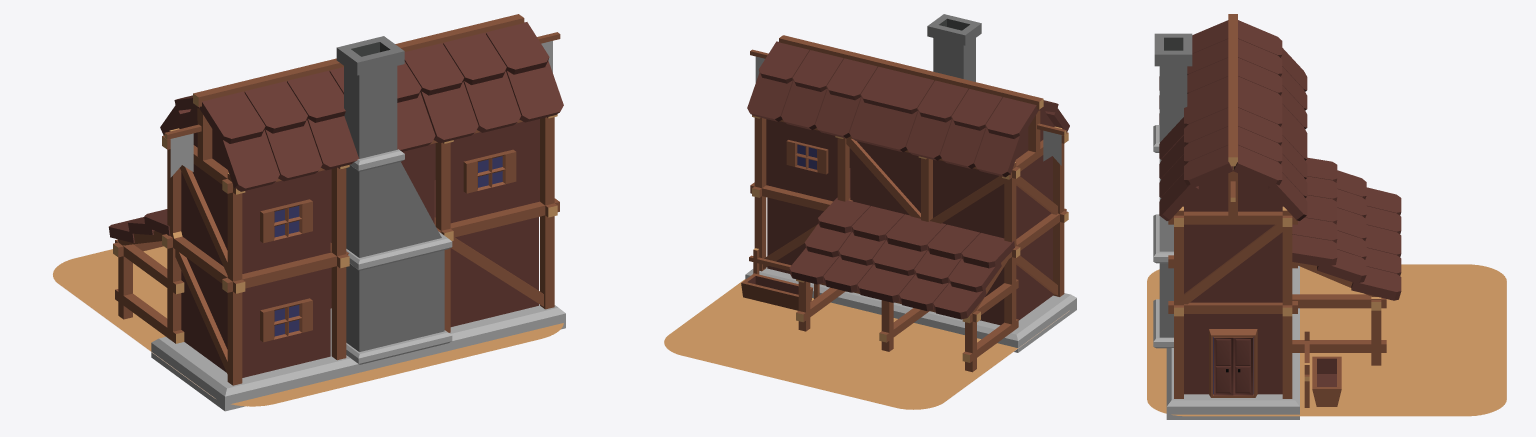
The model's file is Stable.fbx.
The picture shows the model from 3 angles, left to right: view 1: azimuth 30°, elevation 25°; view 2: azimuth 150°, elevation 25°; view 3: azimuth 270°, elevation 25°; orthographic projection. The views are drawn at different scales.
Visible parts, largest first — view 1: polySurface536, Foundation2, Ground, polySurface534, polySurface528, polySurface526, polySurface566, polySurface564, polySurface471, polySurface525, polySurface547, polySurface461 (+37 smaller); view 2: Ground, Foundation2, polySurface565, polySurface538, polySurface563, polySurface503 (×2), polySurface493 (×2), polySurface536, polySurface502 (×2), polySurface492 (×2), polySurface508 (×2), polySurface509 (×2) (+44 smaller); view 3: Ground, polySurface562, Foundation2, polySurface536, polySurface531, polySurface545, polySurface486, polySurface485, polySurface493 (×2), polySurface461, polySurface503 (×2), polySurface508 (×2) (+46 smaller).
Part boxes in pixels (bbox=[...]): polySurface536: bbox=[336, 36, 441, 257]; Foundation2: bbox=[151, 304, 565, 411]; Ground: bbox=[53, 246, 563, 406]; polySurface534: bbox=[346, 250, 444, 351]; polySurface528: bbox=[450, 218, 536, 326]; polySurface526: bbox=[242, 268, 330, 377]; polySurface566: bbox=[242, 169, 330, 273]; polySurface564: bbox=[450, 120, 538, 223]; polySurface471: bbox=[222, 198, 559, 292]; polySurface525: bbox=[181, 258, 245, 377]; polySurface547: bbox=[181, 164, 245, 273]; polySurface461: bbox=[193, 14, 524, 106]; Ground: bbox=[664, 279, 1069, 409]; Foundation2: bbox=[745, 267, 1076, 352]; polySurface565: bbox=[933, 160, 1001, 237]; polySurface538: bbox=[850, 141, 920, 215]; polySurface563: bbox=[768, 120, 837, 201]; polySurface503 (×2): bbox=[961, 97, 1038, 268]; polySurface493 (×2): bbox=[886, 80, 968, 251]; polySurface536: bbox=[927, 14, 981, 81]; polySurface502 (×2): bbox=[948, 128, 1023, 292]; polySurface492 (×2): bbox=[873, 111, 952, 275]; polySurface508 (×2): bbox=[927, 89, 1002, 259]; polySurface509 (×2): bbox=[914, 119, 986, 284]; Ground: bbox=[1147, 264, 1506, 416]; polySurface562: bbox=[1184, 224, 1282, 302]; Foundation2: bbox=[1166, 266, 1299, 419]; polySurface536: bbox=[1154, 33, 1192, 251]; polySurface531: bbox=[1193, 314, 1272, 394]; polySurface545: bbox=[1183, 173, 1283, 211]; polySurface486: bbox=[1282, 206, 1292, 398]; polySurface485: bbox=[1174, 206, 1183, 398]; polySurface493 (×2): bbox=[1238, 57, 1337, 224]; polySurface461: bbox=[1228, 14, 1237, 166]; polySurface503 (×2): bbox=[1238, 20, 1337, 182]; polySurface508 (×2): bbox=[1238, 39, 1337, 201].
Bounding box in the file's own units: 4.15 × 3.28 × 3.95.
